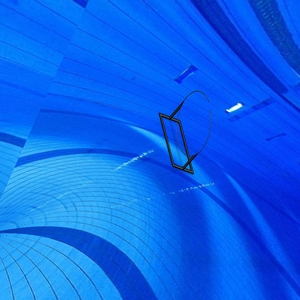circle: (154, 90, 218, 179)
